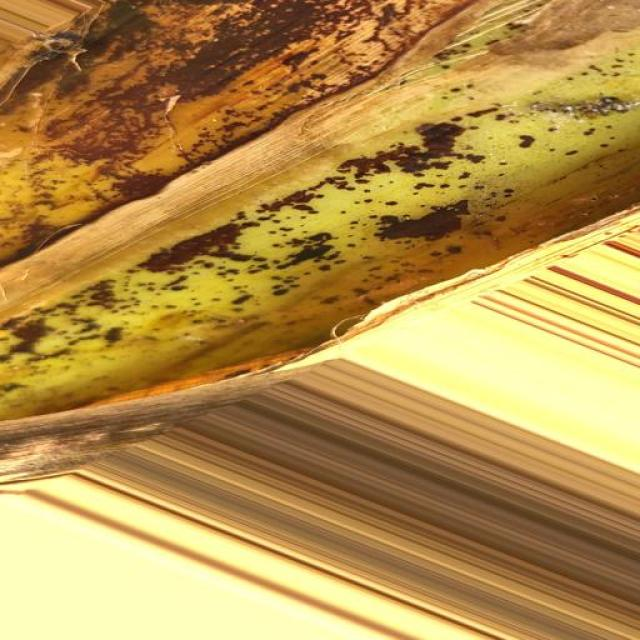Anthracnose: (4, 0, 640, 472)
